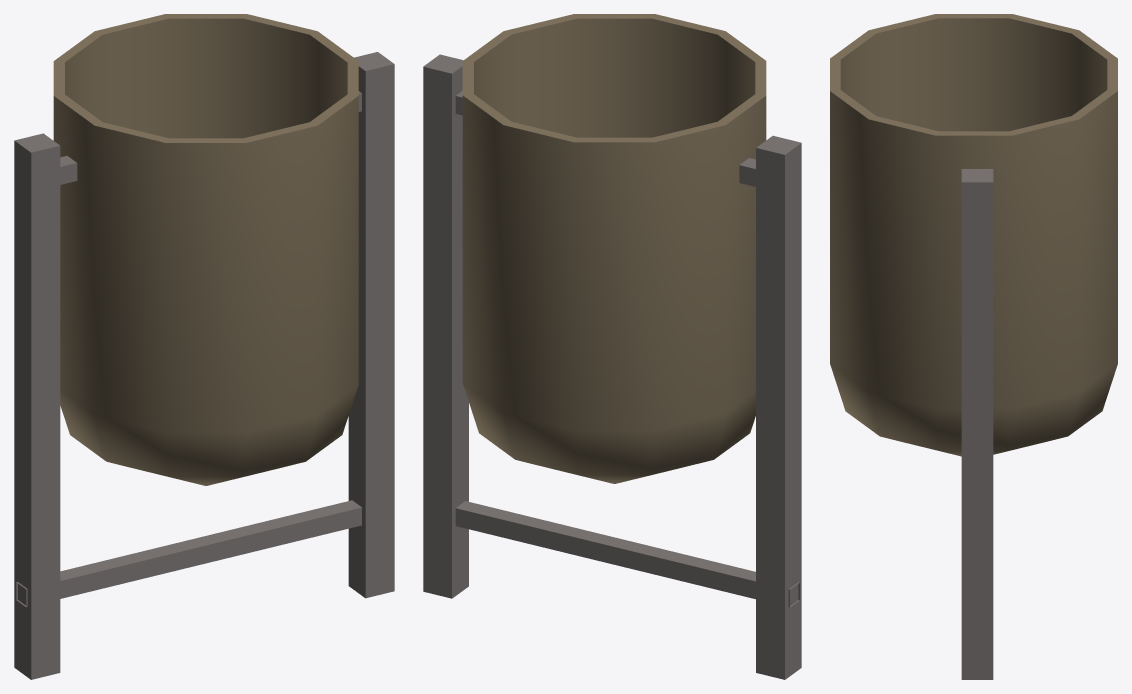
The model's file is SM_Trash_03.fbx.
3 renders of one model, left to right at view 1: azimuth 30°, elevation 25°; view 2: azimuth 150°, elevation 25°; view 3: azimuth 270°, elevation 25°, orthographic. The views are drawn at different scales.
Visible parts, largest first — view 1: SM_Trash_03; view 2: SM_Trash_03; view 3: SM_Trash_03.
Part boxes in pixels (x1,y1,x2,y2): SM_Trash_03: [14, 14, 394, 679]; SM_Trash_03: [423, 14, 801, 679]; SM_Trash_03: [830, 14, 1117, 679].
Bounding box in the file's own units: 31.66 × 45.8 × 22.91.
